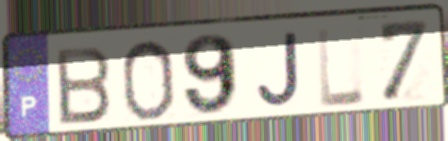7: (377, 20, 433, 106)
9: (181, 31, 244, 120)
B: (52, 43, 114, 127)
J: (254, 29, 301, 111)
L: (314, 24, 367, 110)
O: (119, 37, 177, 124)
